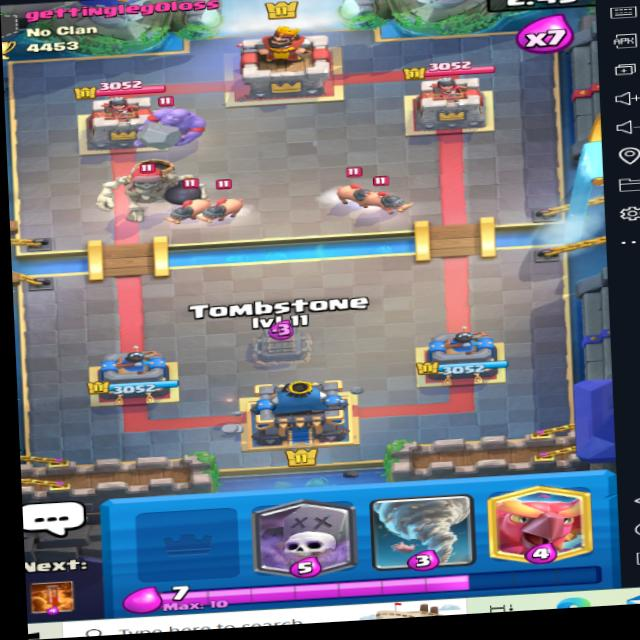bowler: (132, 91, 208, 153)
giant-skeleton: (94, 152, 203, 227)
royal-hogs: (332, 169, 377, 215), (363, 173, 411, 216), (167, 188, 214, 229), (194, 193, 244, 225)
